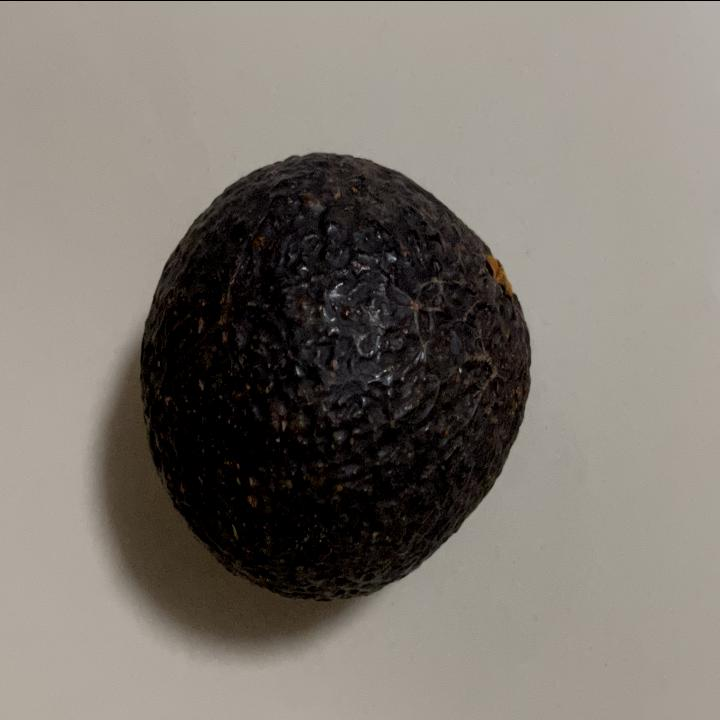Level2: (136, 142, 540, 608)
